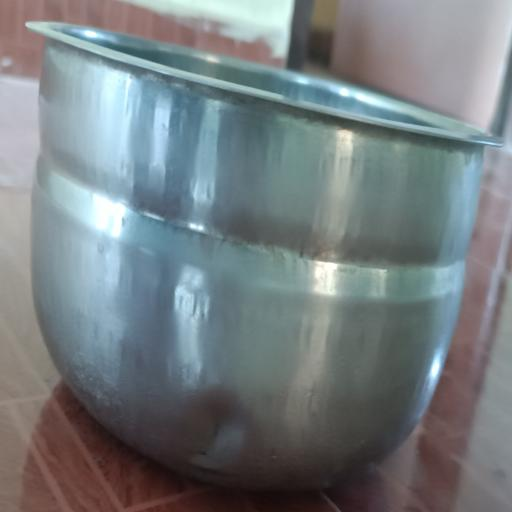vessel: (28, 23, 498, 487)
